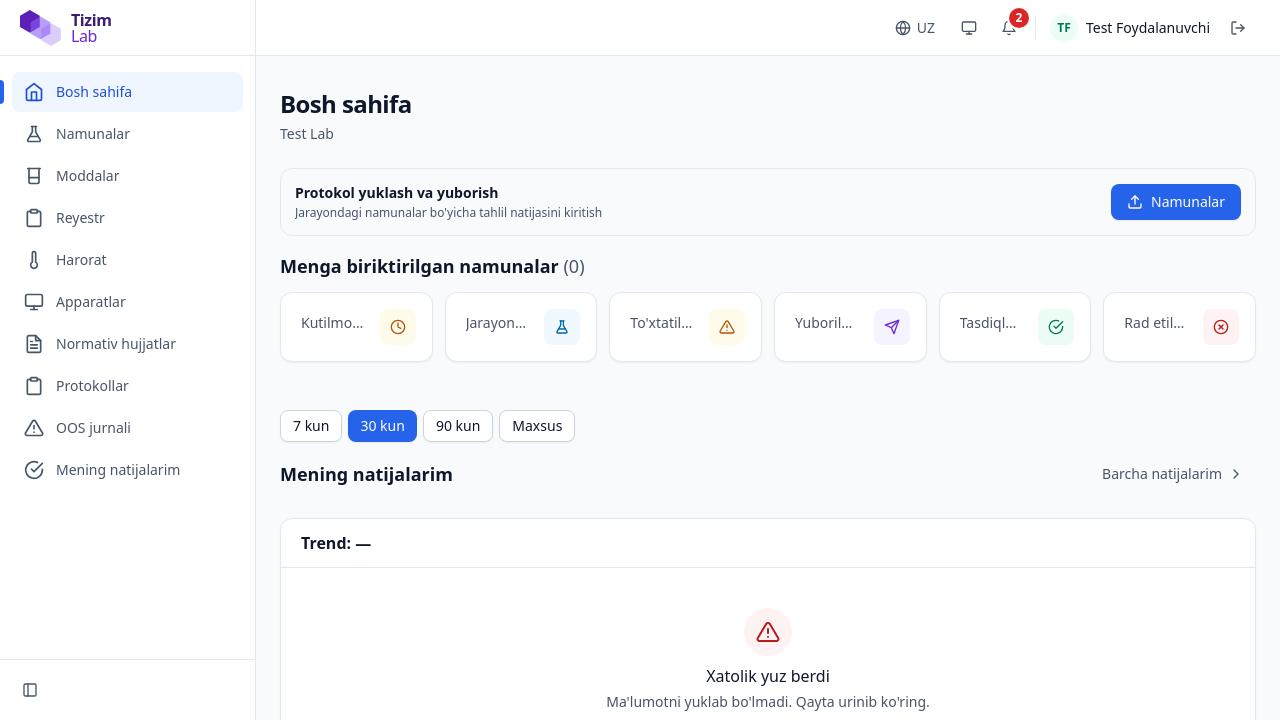
Test: NotificationBell (R-NOTIF-13, R-NOTIF-25, R-NOTIF-26, R-NOTIF-27) › 'Hammasini o'qilgan deb belgilash' — POST /read-all va badge yo'qoladi
expect the text with test id "notification-badge" reads "2": met, box [1016,8,1022,26]
What coordinates should you click on to do the following:
click the button named "Bildirishnomalar"
I would click on:
 (1009, 28)
Its box is [991,10,1027,46].
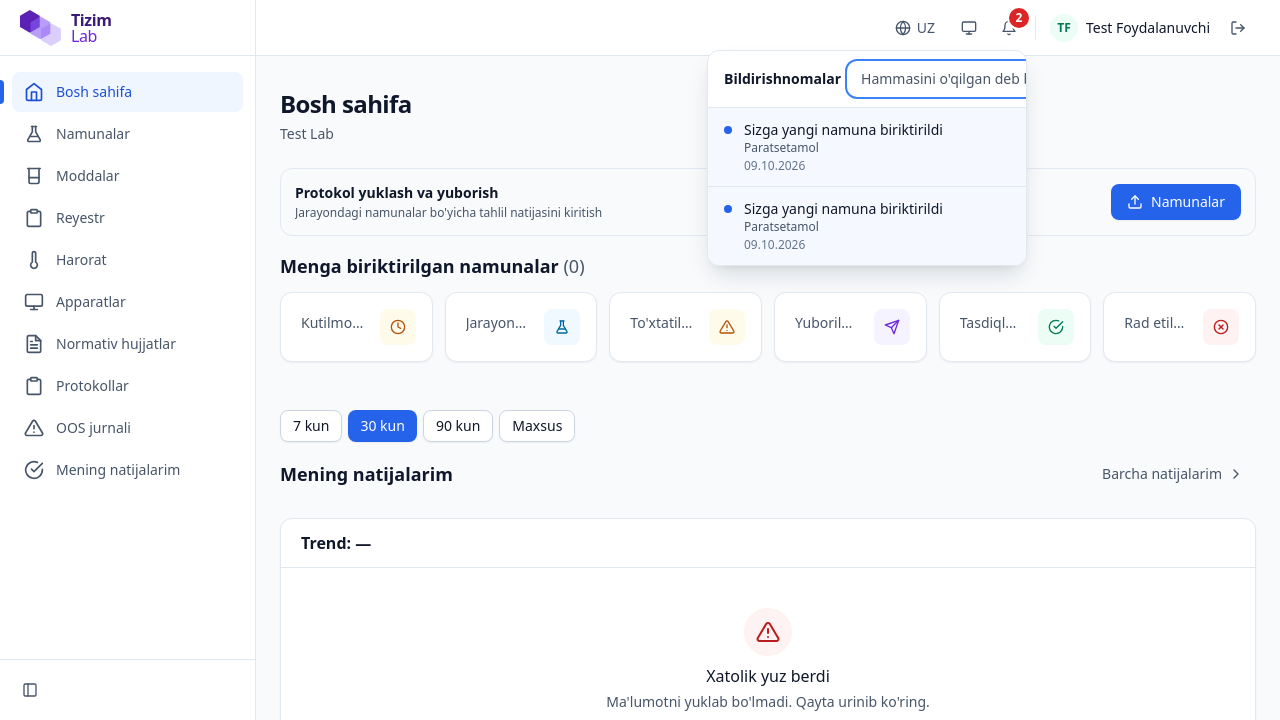
What coordinates should you click on to do the following:
click the button "Hammasini o'qilgan deb belgilash"
I would click on:
 (972, 78)
Its box is [849,62,1095,94].
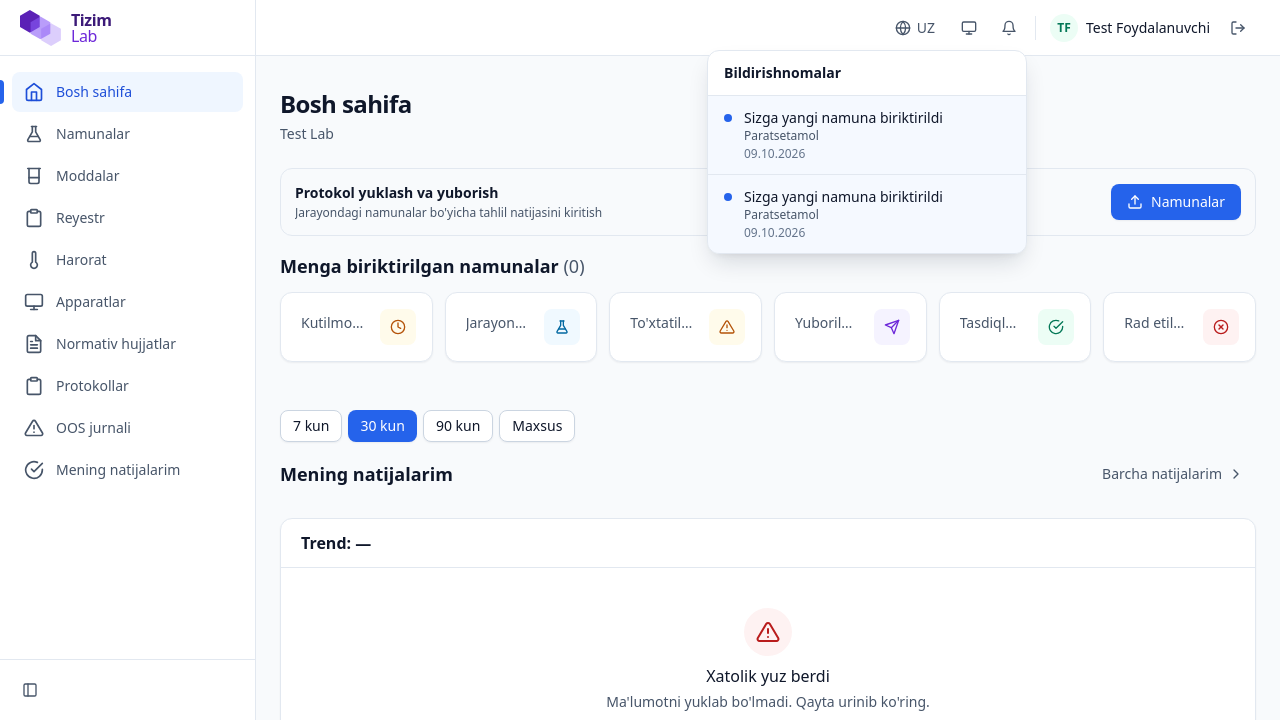
expect the text with test id "notification-badge" is gone: met
